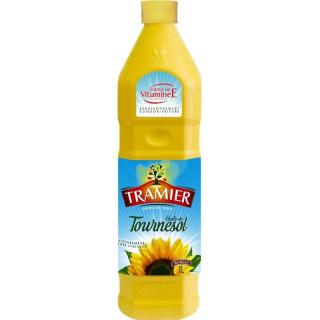Plastic-bottle: (113, 3, 206, 320)
